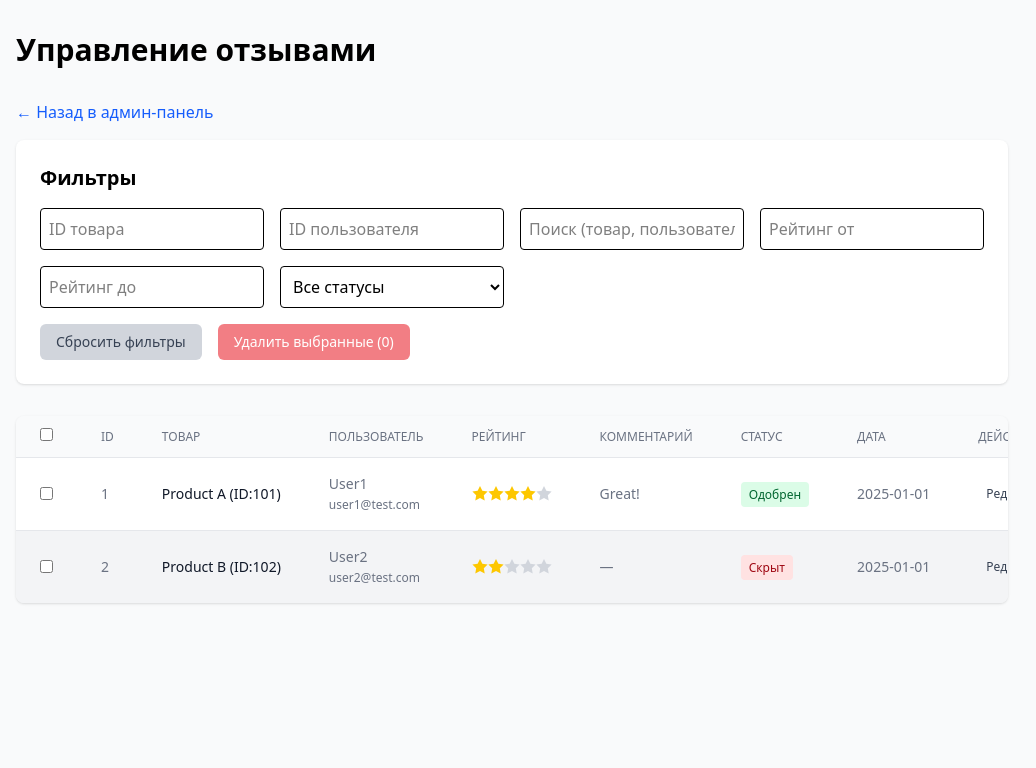
Test: AdminReviews › toggles select all checkbox
Expected: the text "Product A (ID:101)" is shown, top-left (138, 458), bottom-right (305, 530)
Click the checkbox named "Выбрать все отзывы": (46, 434) top-left (40, 428), bottom-right (53, 441)
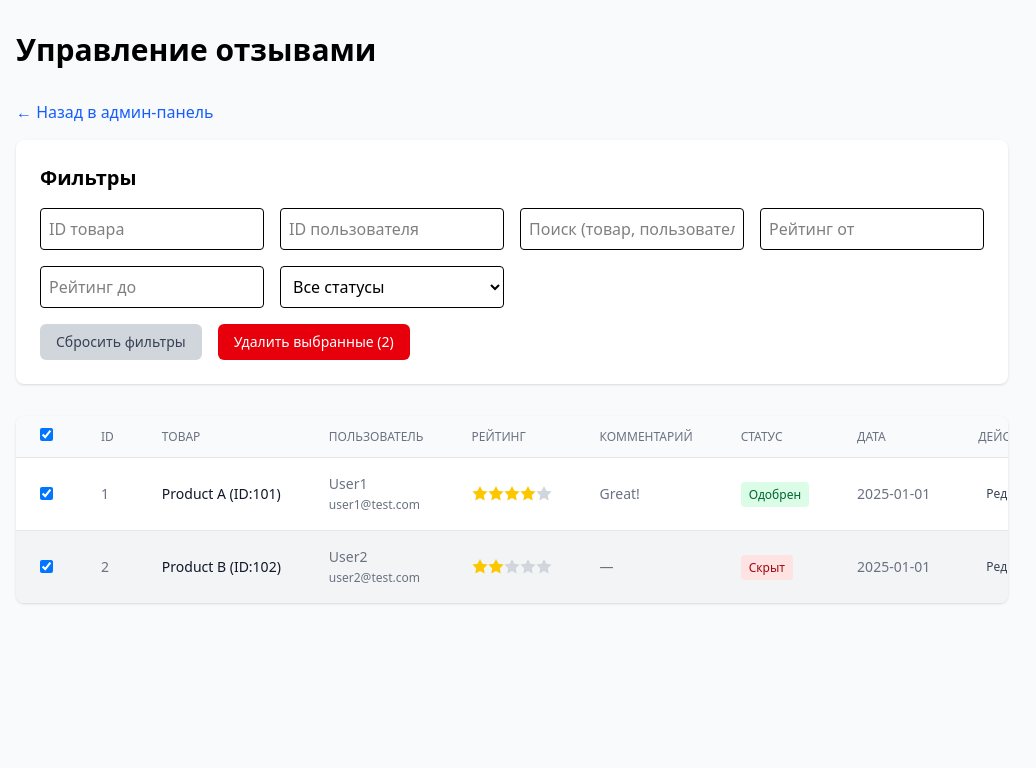
Expected: the checkbox named "Выбрать отзыв 1" is checked, top-left (40, 487), bottom-right (53, 500)
Expected: the checkbox named "Выбрать отзыв 2" is checked, top-left (40, 560), bottom-right (53, 573)
